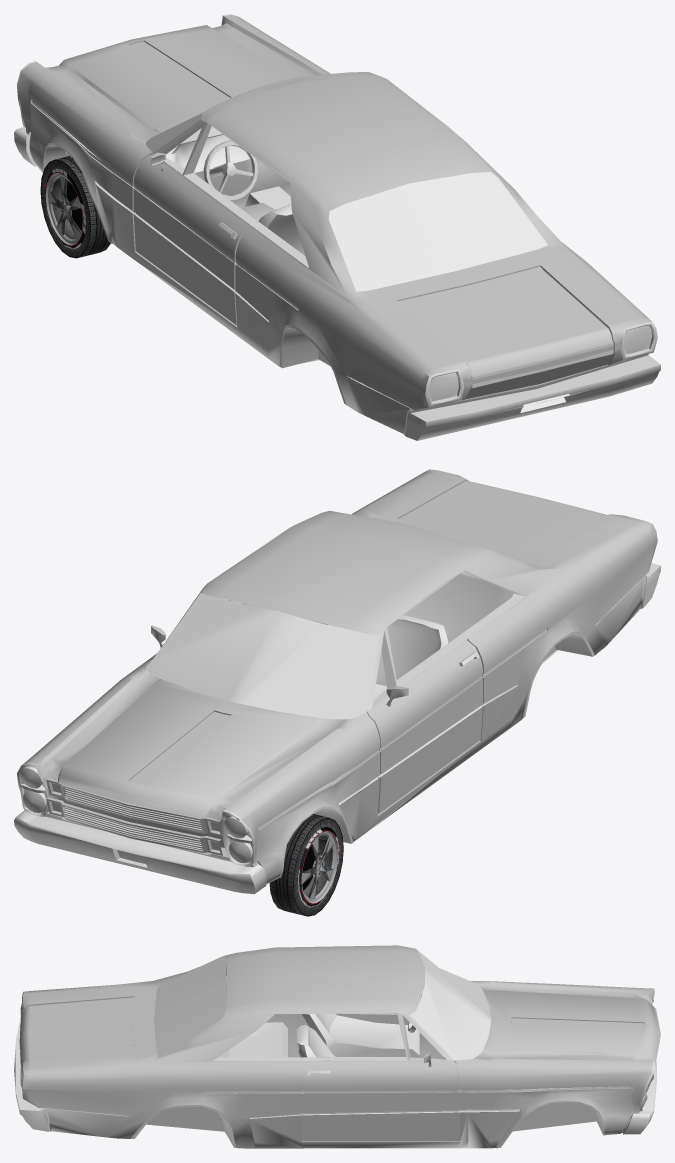
The model's file is 1966 classic sedan.fbx.
The picture shows the model from 3 angles, top to bottom: view 1: azimuth 30°, elevation 25°; view 2: azimuth 150°, elevation 25°; view 3: azimuth 270°, elevation 25°; orthographic projection. The views are drawn at different scales.
Parts seen in each view (by area): view 1: 1966 classic sedan body, 1966 classic sedan glass, 1966 classic sedan metal, 1966 classic sedan interior, 1966 classic sedan tire; view 2: 1966 classic sedan body, 1966 classic sedan glass, 1966 classic sedan metal, 1966 classic sedan interior, 1966 classic sedan tire; view 3: 1966 classic sedan body, 1966 classic sedan interior, 1966 classic sedan glass, 1966 classic sedan metal.
Boxes of the visible parts, bbox=[...] form: 1966 classic sedan body: bbox=[18, 15, 652, 435]; 1966 classic sedan glass: bbox=[146, 73, 547, 291]; 1966 classic sedan metal: bbox=[14, 14, 660, 440]; 1966 classic sedan interior: bbox=[43, 82, 653, 413]; 1966 classic sedan tire: bbox=[40, 156, 110, 258]; 1966 classic sedan body: bbox=[23, 469, 657, 883]; 1966 classic sedan glass: bbox=[146, 511, 546, 719]; 1966 classic sedan metal: bbox=[14, 563, 660, 894]; 1966 classic sedan interior: bbox=[19, 529, 592, 867]; 1966 classic sedan tire: bbox=[269, 814, 343, 916]; 1966 classic sedan body: bbox=[19, 945, 660, 1148]; 1966 classic sedan interior: bbox=[14, 957, 656, 1147]; 1966 classic sedan glass: bbox=[154, 949, 491, 1060]; 1966 classic sedan metal: bbox=[14, 988, 656, 1148].
Bounding box in the file's own units: 235 × 182 × 661.
